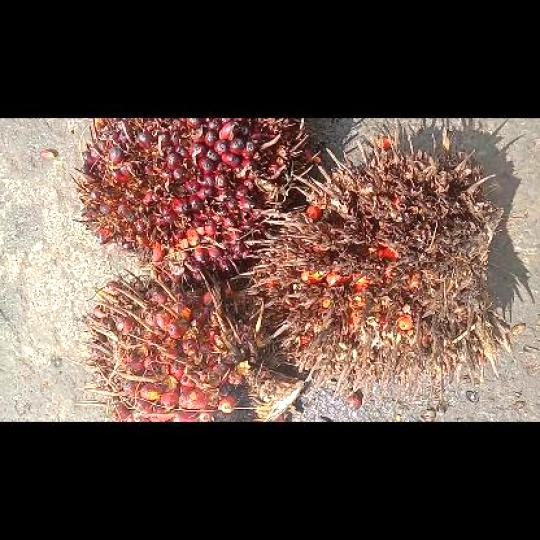masak: (71, 117, 311, 280), (76, 262, 302, 421)
terlalu masak: (238, 129, 517, 406)
